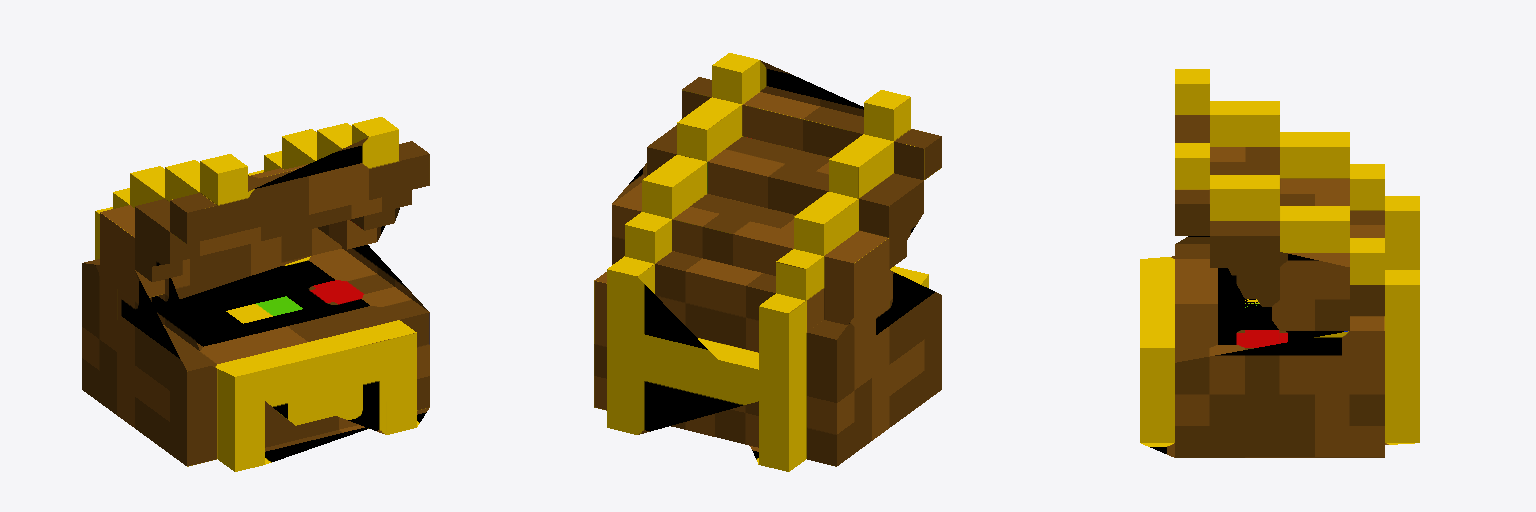
The picture shows the model from 3 angles: view 1: azimuth 30°, elevation 25°; view 2: azimuth 150°, elevation 25°; view 3: azimuth 270°, elevation 25°; orthographic projection.
Parts seen in each view (by area): view 1: Chest_Medium_Open_Treasure_Chest_Medium_Open_Treasure.001; view 2: Chest_Medium_Open_Treasure_Chest_Medium_Open_Treasure.001; view 3: Chest_Medium_Open_Treasure_Chest_Medium_Open_Treasure.001.
Boxes of the visible parts, x1,y1,x2,y2 form: Chest_Medium_Open_Treasure_Chest_Medium_Open_Treasure.001: [82, 117, 429, 471]; Chest_Medium_Open_Treasure_Chest_Medium_Open_Treasure.001: [594, 53, 941, 471]; Chest_Medium_Open_Treasure_Chest_Medium_Open_Treasure.001: [1140, 69, 1419, 457].
Bounding box in the file's own units: 0.8 × 0.9 × 0.8.
1 materials, 1 textured.